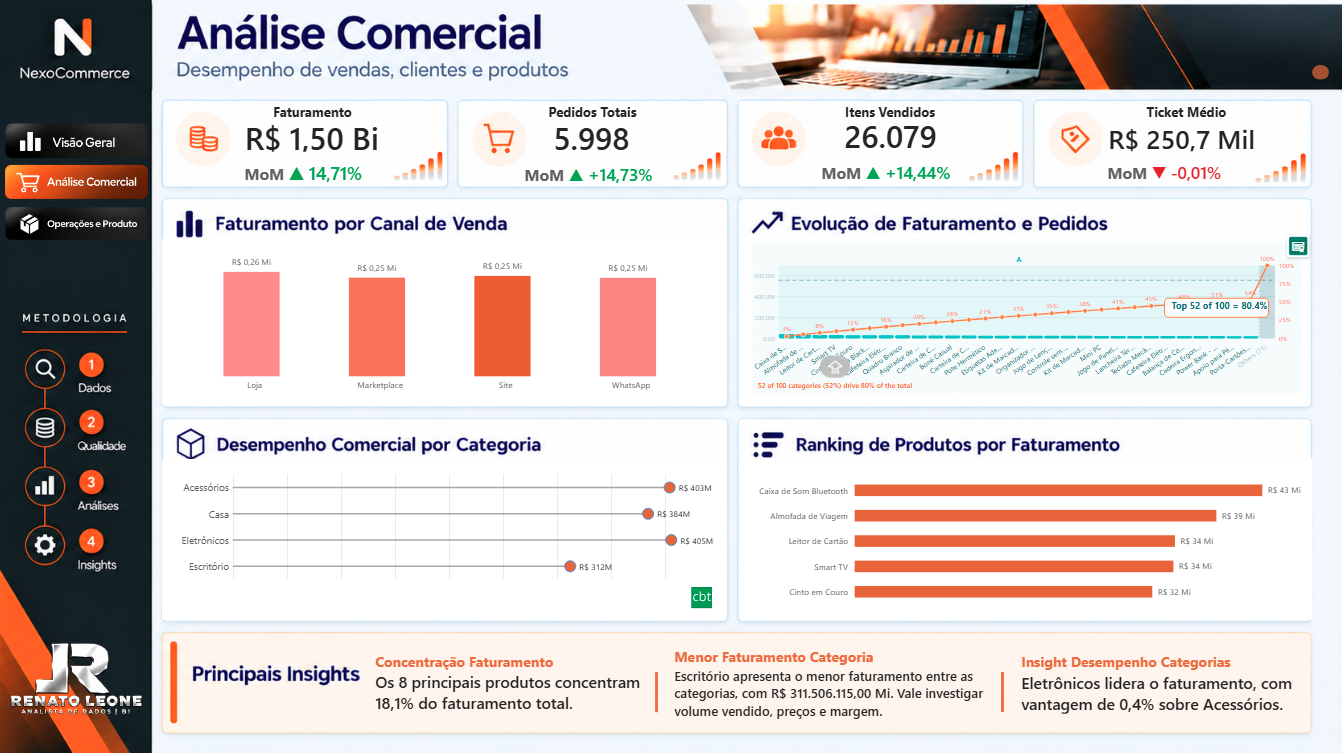

The dashboard page shown, as its layout file describes it:
{"tool":"powerbi","page":{"name":"02_ANÁLISE COMERCIAL","canvas":[1920,1080],"ordinal":1},"visuals":[{"type":"image","box":[0,151.4,224.3,105.7],"z":0},{"type":"image","box":[0,205.7,224.3,115.7],"z":1000},{"type":"image","box":[0,260.6,224.4,125],"z":2000},{"type":"image","box":[0,864.3,224.3,215.7],"z":3000},{"type":"shape","title":"BTN_Abrir","box":[1876.7,95.6,24.4,21.1],"z":5000},{"type":"cardVisual","fields":{"Data":["Medidas.Faturamento Total"]},"box":[335.7,178.6,225.7,128.6],"z":6000},{"type":"image","box":[550,188.6,100,101.4],"z":7000},{"type":"image","box":[950,188.9,96.7,101.1],"z":8000},{"type":"image","box":[1371.4,188.6,101.4,101.4],"z":9000},{"type":"image","box":[1780,191.4,104.3,101.4],"z":10000},{"type":"textbox","box":[345.5,150,207.3,24.5],"z":11000},{"type":"cardVisual","fields":{"Data":["Medidas.Pedidos Totais"]},"box":[735.7,178.6,224.3,132.9],"z":12000},{"type":"textbox","box":[748.6,150,201.4,28.6],"z":13000},{"type":"cardVisual","fields":{"Data":["Medidas.Itens Vendidos"]},"box":[1160,175.7,230,132.9],"z":14000},{"type":"textbox","box":[1137.1,150,274.3,28.6],"z":15000},{"type":"textbox","box":[1558.3,150,278.3,25],"z":16000},{"type":"cardVisual","fields":{"Data":["Medidas.Ticket Médio"]},"box":[1568.6,180,245.7,120],"z":17000},{"type":"clusteredBarChart","fields":{"Category":["produtos.produto"],"Y":["Medidas.Faturamento Total"]},"box":[1061.4,658.6,815.7,230],"z":18000},{"type":"clusteredColumnChart","fields":{"Category":["pedidos.canal_venda"],"Y":["Medidas.Ticket Médio"]},"box":[234.3,344.3,802.9,237.1],"z":19000},{"type":"lollipopChart6C1F4A82B9D34E7A8F0C25D1E3B7A946","fields":{"value":["Medidas.Faturamento Total"],"category":["produtos.categoria"],"tooltips":["Medidas.Itens Vendidos"]},"box":[234.3,658.6,802.9,230],"z":20000},{"type":"paretoChartFBB6AC1A44E04E8A868B77348A4497AD","fields":{"category":["produtos.produto"],"value":["Medidas.Faturamento Total"]},"box":[1061.4,334.3,815.7,247.1],"z":21000},{"type":"cardVisual","fields":{"Data":["Medidas.Insight Concentração Faturamento"]},"box":[522.7,910,427.1,137.1],"z":22000},{"type":"cardVisual","fields":{"Data":["Medidas.Insight Desempenho Categorias"]},"box":[1445.5,898.2,455.7,160],"z":23000},{"type":"cardVisual","fields":{"Data":["Medidas.Insight Menor Faturamento Categoria"]},"box":[950,910,474.3,137.1],"z":24000},{"type":"shape","box":[865.6,962.2,150,57.8],"z":24001},{"type":"shape","box":[1360,962.7,150,57.3],"z":24002}]}

Visuals, with their boxes on the page's 1920x1080 design canvas (x1, y1, x2, y2). These are canvas units, not pixel positions in the 1342x753 screenshot, which may show the page scaled, cropped or inside an application window:
image: [left=0, top=151, right=224, bottom=257]
image: [left=0, top=206, right=224, bottom=321]
image: [left=0, top=261, right=224, bottom=386]
image: [left=0, top=864, right=224, bottom=1080]
"BTN_Abrir" shape: [left=1877, top=96, right=1901, bottom=117]
cardVisual - Medidas.Faturamento Total: [left=336, top=179, right=561, bottom=307]
image: [left=550, top=189, right=650, bottom=290]
image: [left=950, top=189, right=1047, bottom=290]
image: [left=1371, top=189, right=1473, bottom=290]
image: [left=1780, top=191, right=1884, bottom=293]
textbox: [left=346, top=150, right=553, bottom=174]
cardVisual - Medidas.Pedidos Totais: [left=736, top=179, right=960, bottom=312]
textbox: [left=749, top=150, right=950, bottom=179]
cardVisual - Medidas.Itens Vendidos: [left=1160, top=176, right=1390, bottom=309]
textbox: [left=1137, top=150, right=1411, bottom=179]
textbox: [left=1558, top=150, right=1837, bottom=175]
cardVisual - Medidas.Ticket Médio: [left=1569, top=180, right=1814, bottom=300]
clusteredBarChart - produtos.produto x Medidas.Faturamento Total: [left=1061, top=659, right=1877, bottom=889]
clusteredColumnChart - pedidos.canal_venda x Medidas.Ticket Médio: [left=234, top=344, right=1037, bottom=581]
lollipopChart6C1F4A82B9D34E7A8F0C25D1E3B7A946 - Medidas.Faturamento Total x produtos.categoria: [left=234, top=659, right=1037, bottom=889]
paretoChartFBB6AC1A44E04E8A868B77348A4497AD - produtos.produto x Medidas.Faturamento Total: [left=1061, top=334, right=1877, bottom=581]
cardVisual - Medidas.Insight Concentração Faturamento: [left=523, top=910, right=950, bottom=1047]
cardVisual - Medidas.Insight Desempenho Categorias: [left=1446, top=898, right=1901, bottom=1058]
cardVisual - Medidas.Insight Menor Faturamento Categoria: [left=950, top=910, right=1424, bottom=1047]
shape: [left=866, top=962, right=1016, bottom=1020]
shape: [left=1360, top=963, right=1510, bottom=1020]
